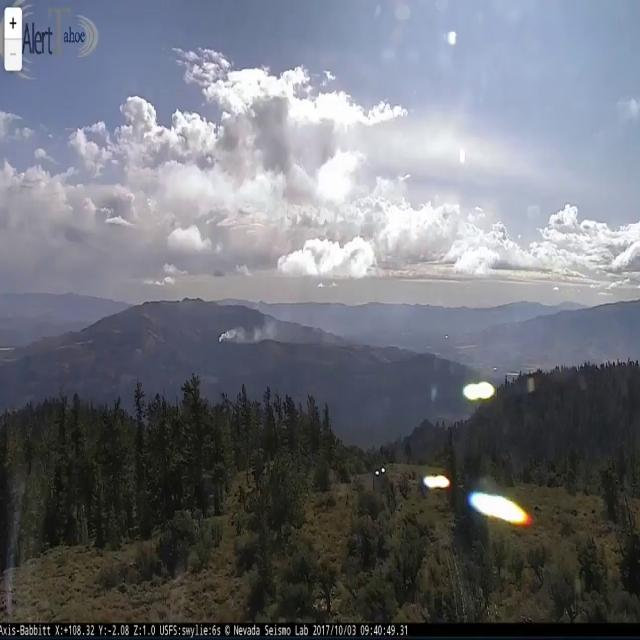smoke: (218, 306, 286, 344)
